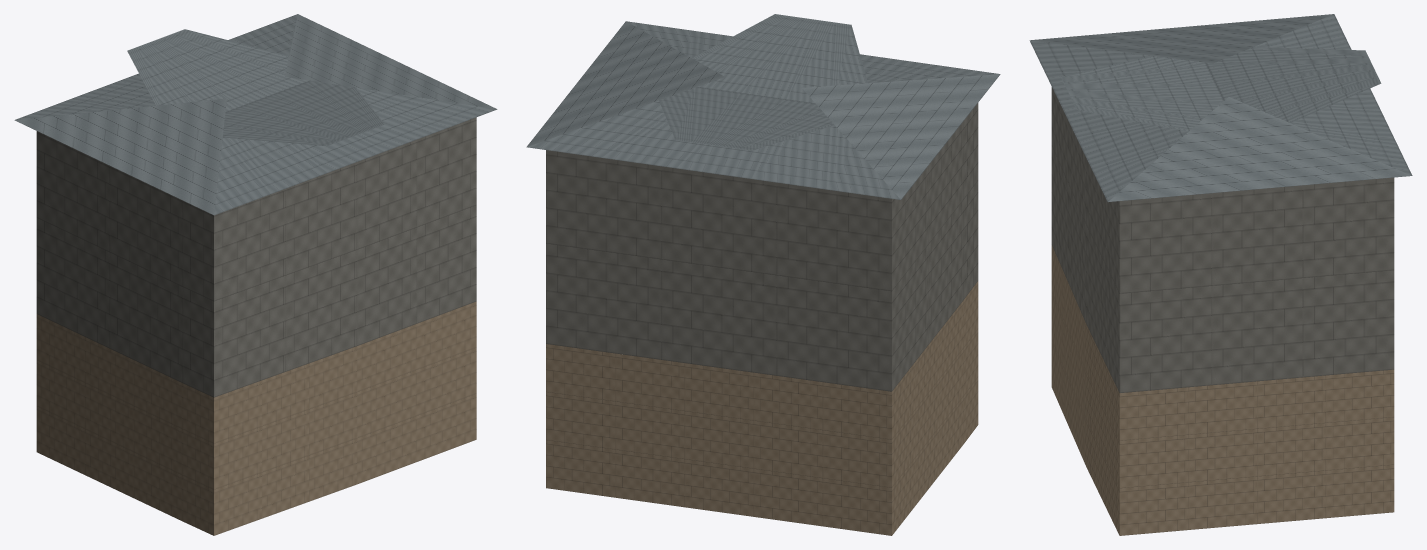
The model's file is bld_c23_32_373.gltf.
3 views of the same model, side by side, from view 1: azimuth 30°, elevation 25°; view 2: azimuth 150°, elevation 25°; view 3: azimuth 270°, elevation 25° (orthographic). The views are drawn at different scales.
Parts seen in each view (by area): view 1: bld_c23_32_373; view 2: bld_c23_32_373; view 3: bld_c23_32_373.
Boxes of the visible parts, x1=… form: bld_c23_32_373: x1=14, y1=14, x2=497, y2=535; bld_c23_32_373: x1=526, y1=14, x2=1000, y2=535; bld_c23_32_373: x1=1029, y1=14, x2=1412, y2=535.
Size of the model in its own units: 14.42 by 13.2 by 12.4.
Materials: 3 (3 with a texture image).
